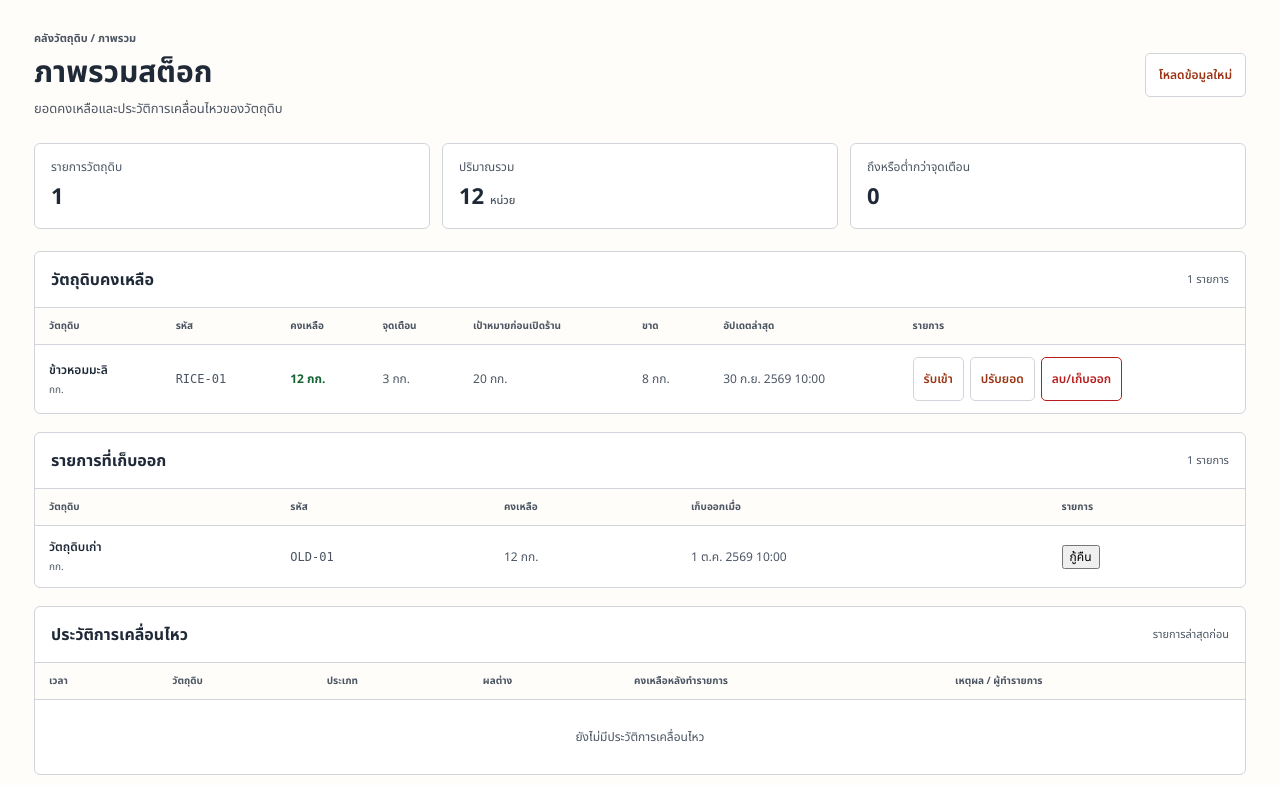
Test: Stock archive UI › shows a conflict from the server without hiding the row
This screenshot has width=1280, height=785.
Click the button "ลบ/เก็บออก": point(1081, 379) [1041,357,1122,401]
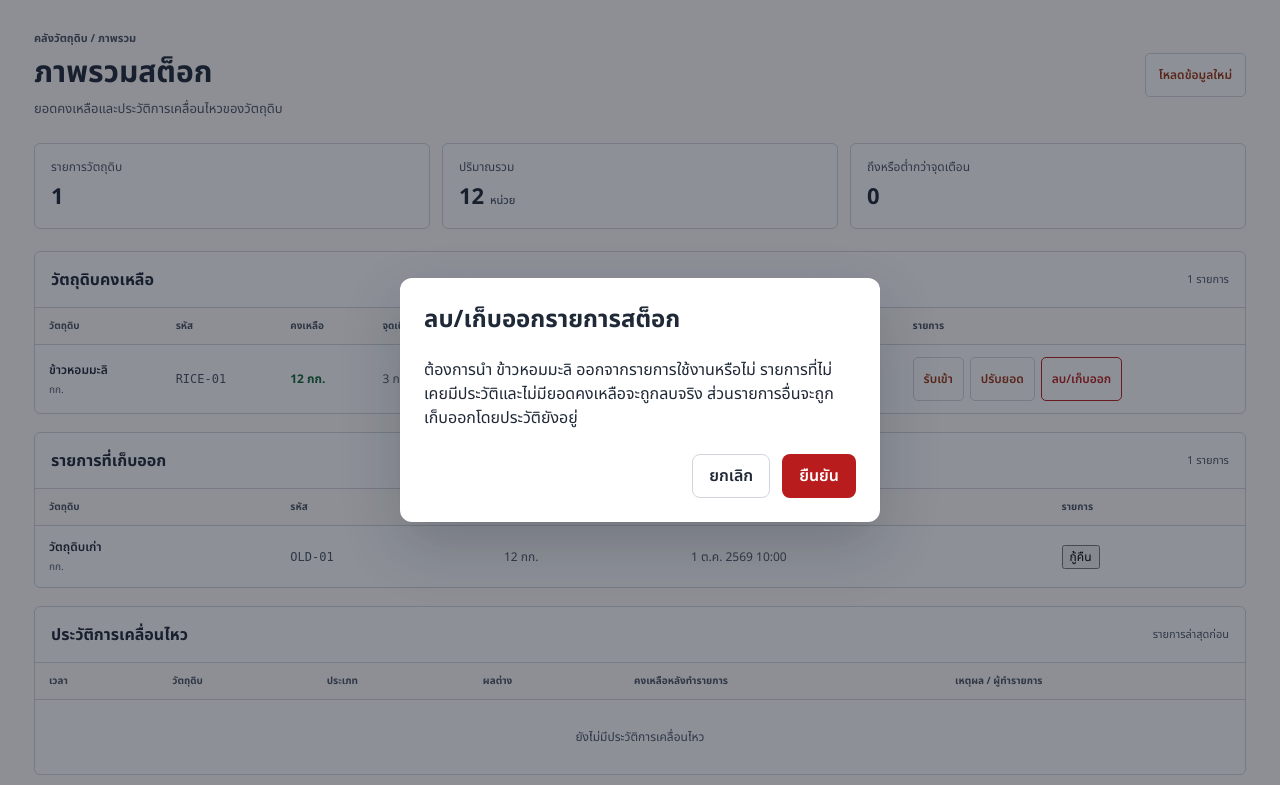
Click the button "ยืนยัน": point(819, 476) [782,454,856,498]
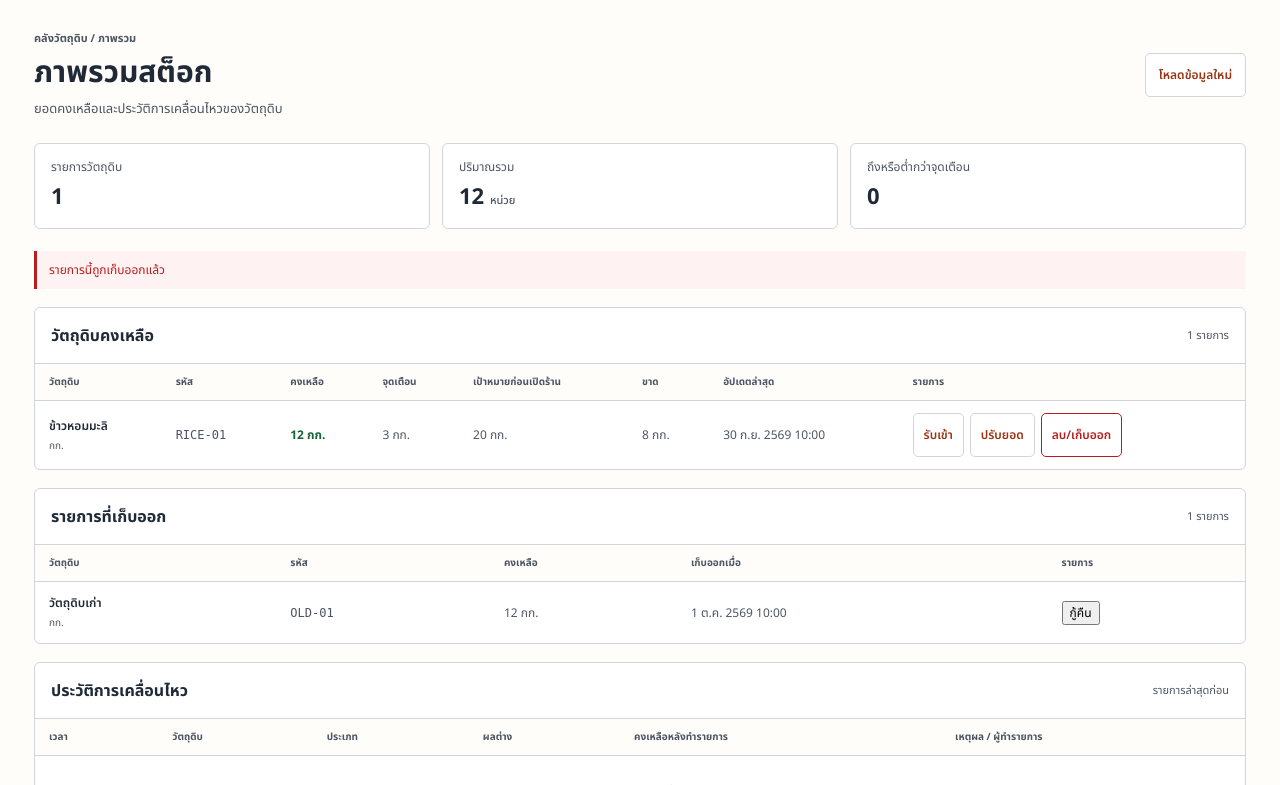
Expected: the text "RICE-01" is shown, [162,400,276,469]
Result: the message reads "รายการนี้ถูกเก็บออกแล้ว" at [49,261,165,279]
